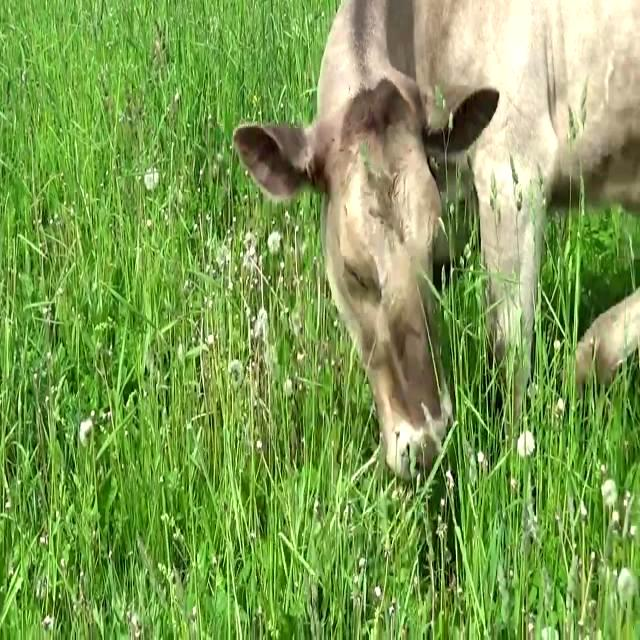COW: (235, 0, 640, 477), (576, 289, 640, 383)
